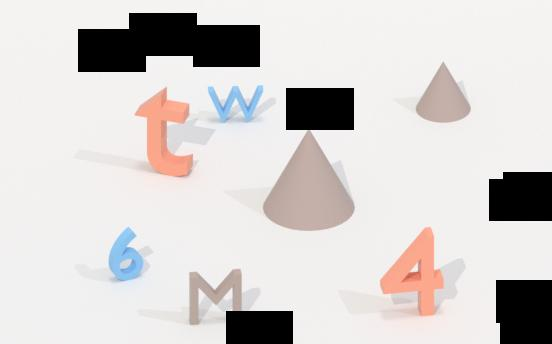4: (376, 225, 449, 320)
6: (106, 226, 149, 282)
M-hoa: (184, 266, 247, 326)
non: (259, 132, 361, 230), (411, 59, 479, 126)
t: (127, 88, 199, 181)
w: (203, 84, 269, 124)
